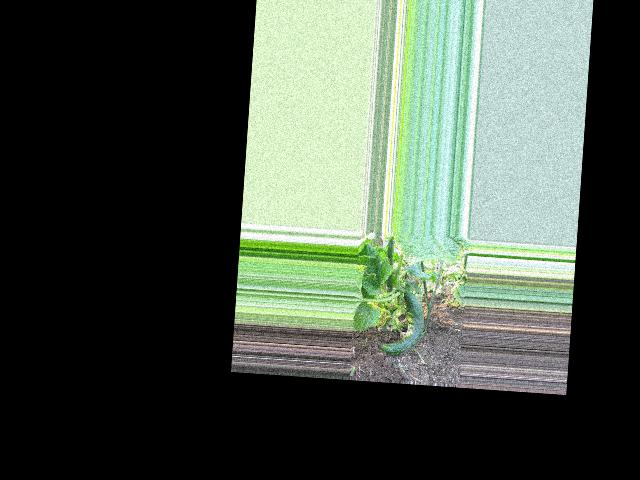cucumber: (380, 289, 426, 357)
